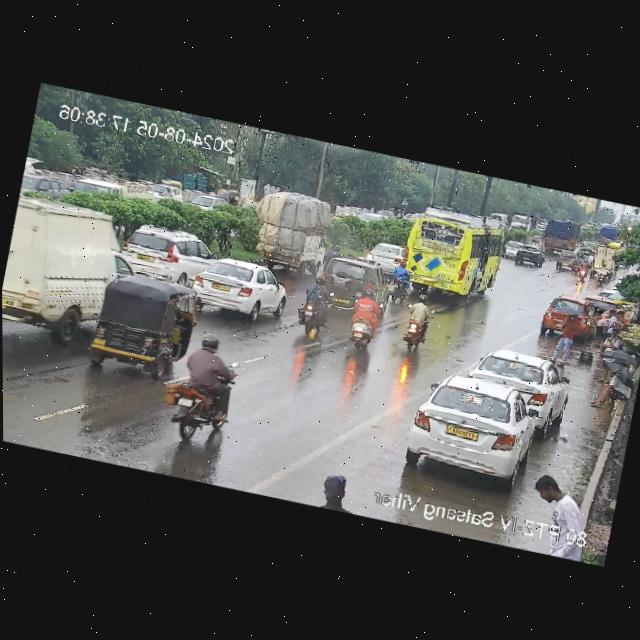bus: (1, 189, 127, 347), (398, 198, 512, 303)
car: (400, 369, 556, 492), (80, 268, 212, 389), (182, 251, 291, 322), (464, 343, 570, 416), (123, 217, 210, 280), (314, 253, 392, 298), (67, 169, 136, 210), (540, 293, 593, 338), (185, 185, 236, 220), (21, 164, 67, 200), (145, 178, 192, 208), (363, 239, 402, 269), (353, 208, 394, 233), (517, 243, 546, 268), (555, 247, 576, 272), (503, 240, 522, 259)
motorcycle: (160, 326, 243, 448), (294, 274, 335, 339), (400, 294, 443, 354), (343, 287, 383, 347), (387, 262, 415, 302), (594, 263, 609, 286), (578, 258, 592, 281), (573, 254, 583, 274)
person: (540, 476, 588, 536), (588, 368, 635, 412), (313, 471, 355, 513), (553, 310, 582, 361), (598, 327, 624, 380), (604, 308, 625, 325)
truck: (240, 186, 334, 275), (536, 217, 583, 254)
